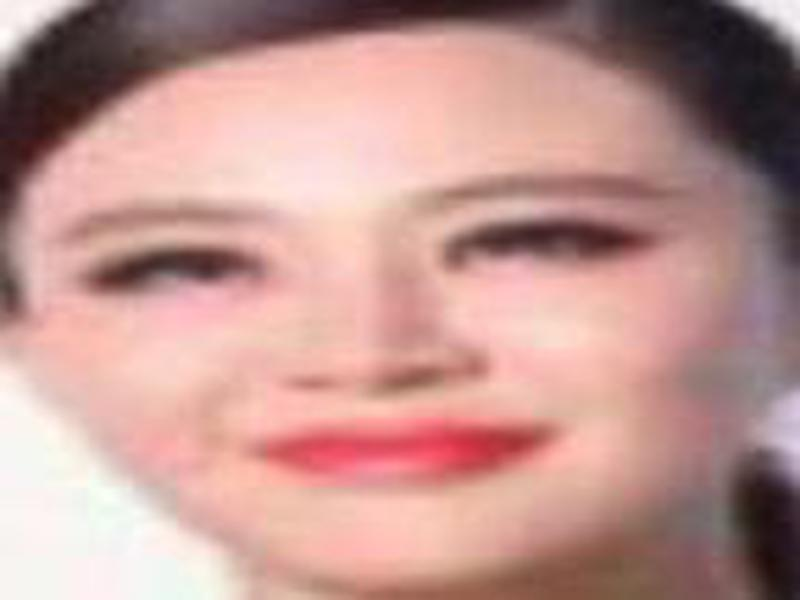without_mask: (17, 72, 774, 587)
